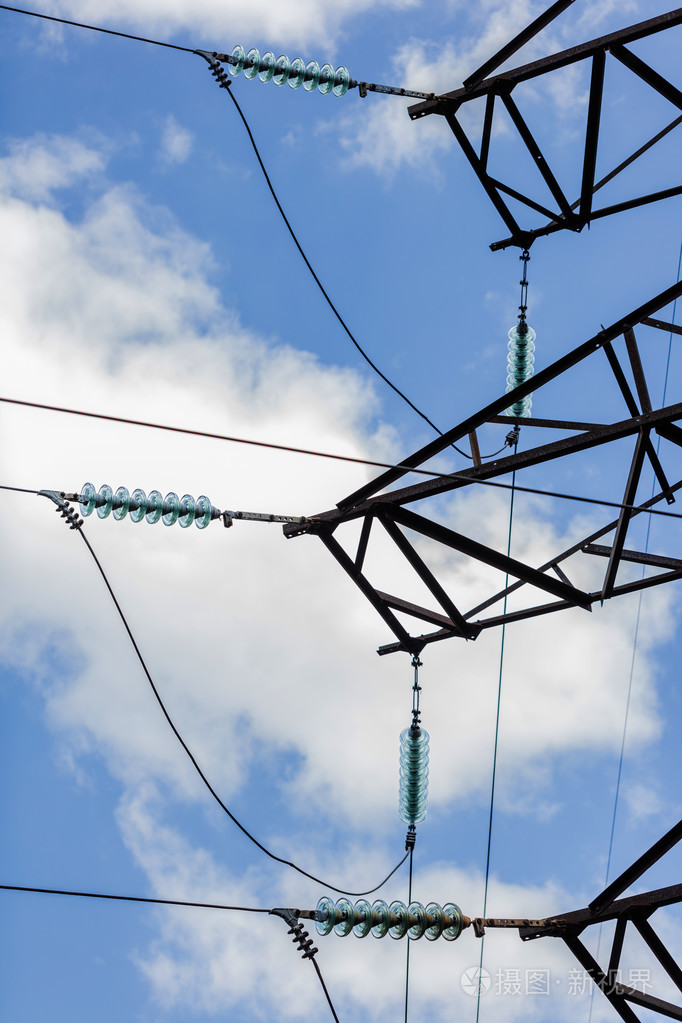insulator: (317, 894, 465, 945), (74, 479, 215, 532), (225, 47, 353, 101), (503, 321, 539, 417), (400, 724, 429, 822)
